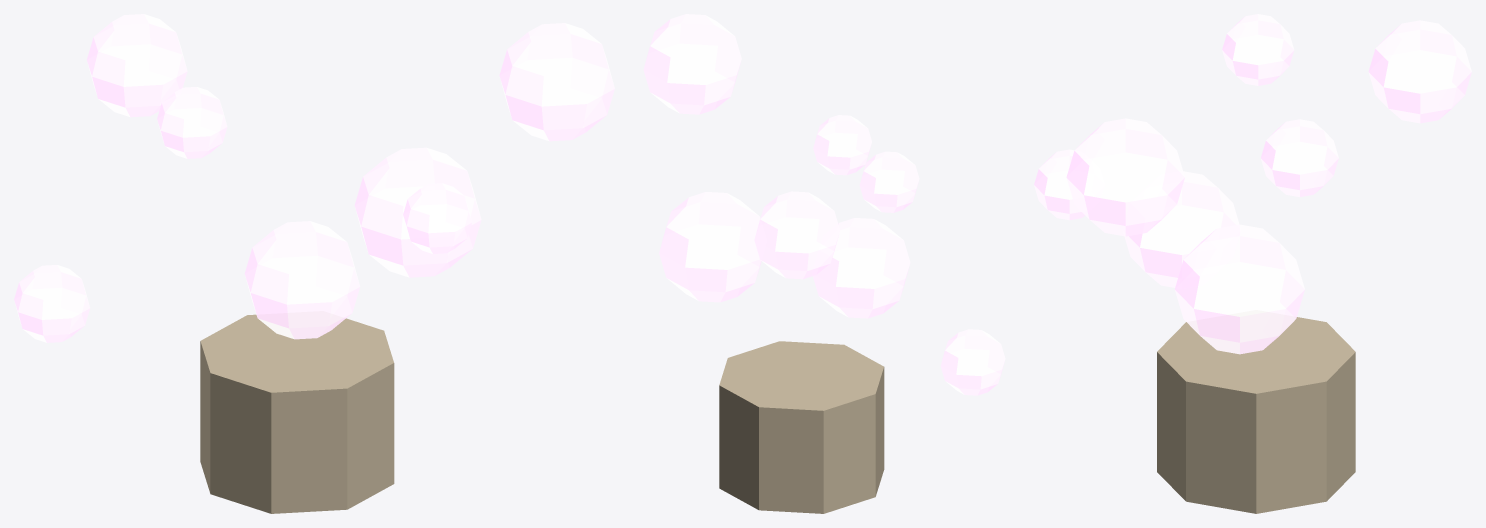
File: prop_luminos_spore.fbx
3 renders of one model, left to right at view 1: azimuth 30°, elevation 25°; view 2: azimuth 150°, elevation 25°; view 3: azimuth 270°, elevation 25°, orthographic. The views are drawn at different scales.
Visible parts, largest first — view 1: L_Spore_Stump, L_Spore_Puff_2, L_Spore_Puff_5, L_Spore_Puff_3, L_Spore_Puff_4, L_Spore_Puff_1, L_Spore_Puff_0, L_Spore_Puff_6; view 2: L_Spore_Stump, L_Spore_Puff_3, L_Spore_Puff_5, L_Spore_Puff_2, L_Spore_Puff_4, L_Spore_Puff_1, L_Spore_Puff_0, L_Spore_Puff_6; view 3: L_Spore_Stump, L_Spore_Puff_3, L_Spore_Puff_5, L_Spore_Puff_4, L_Spore_Puff_2, L_Spore_Puff_1, L_Spore_Puff_0, L_Spore_Puff_6.
Boxes of the visible parts, x1,y1,x2,y2 form: L_Spore_Stump: [200, 314, 394, 513]; L_Spore_Puff_2: [244, 221, 360, 339]; L_Spore_Puff_5: [499, 23, 614, 141]; L_Spore_Puff_3: [354, 147, 481, 277]; L_Spore_Puff_4: [87, 14, 187, 117]; L_Spore_Puff_1: [14, 265, 90, 342]; L_Spore_Puff_0: [157, 87, 227, 158]; L_Spore_Puff_6: [403, 183, 472, 253]; L_Spore_Stump: [719, 341, 884, 513]; L_Spore_Puff_3: [659, 192, 761, 302]; L_Spore_Puff_5: [643, 14, 741, 114]; L_Spore_Puff_2: [813, 218, 910, 318]; L_Spore_Puff_4: [754, 191, 839, 279]; L_Spore_Puff_1: [940, 329, 1005, 395]; L_Spore_Puff_0: [859, 151, 919, 212]; L_Spore_Puff_6: [813, 115, 871, 175]; L_Spore_Stump: [1157, 317, 1355, 513]; L_Spore_Puff_3: [1174, 224, 1304, 354]; L_Spore_Puff_5: [1066, 118, 1184, 236]; L_Spore_Puff_4: [1368, 20, 1471, 123]; L_Spore_Puff_2: [1124, 171, 1239, 287]; L_Spore_Puff_1: [1260, 119, 1338, 196]; L_Spore_Puff_0: [1222, 14, 1294, 85]; L_Spore_Puff_6: [1034, 149, 1084, 220].
Bounding box in the file's own units: 0.8692 × 0.7361 × 0.6609.
